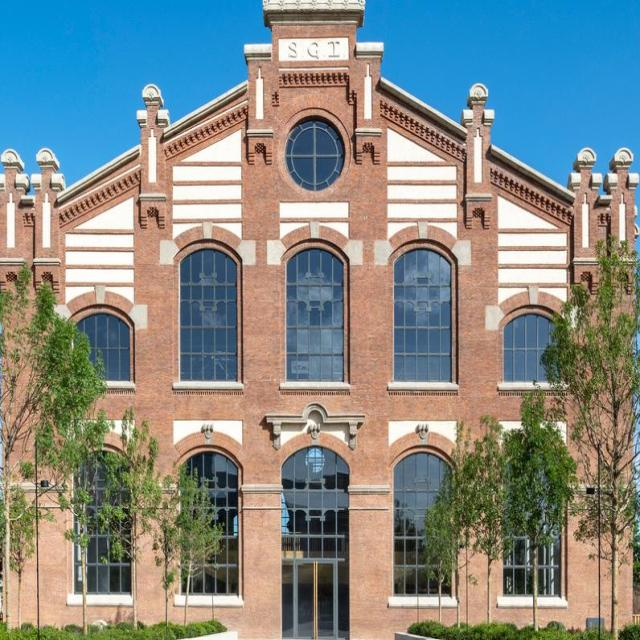door: (284, 560, 349, 636)
window: (184, 447, 243, 596), (392, 453, 453, 595), (392, 247, 453, 388), (78, 447, 133, 596), (286, 246, 345, 382), (181, 248, 239, 379), (282, 447, 350, 557), (73, 303, 134, 379), (504, 312, 561, 383), (288, 117, 344, 187)
